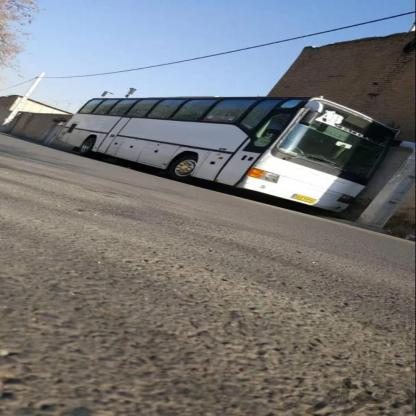Bus: (47, 63, 368, 230)
